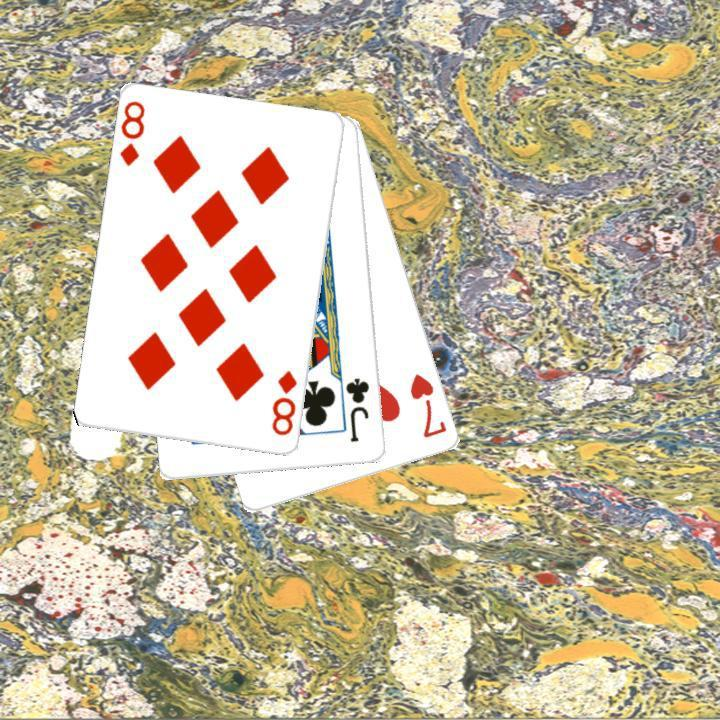7: (406, 369, 449, 441)
8: (267, 366, 299, 438), (116, 97, 148, 169)
J: (342, 374, 372, 445)
